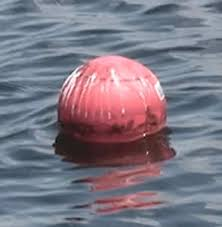buoy: (58, 55, 168, 143)
